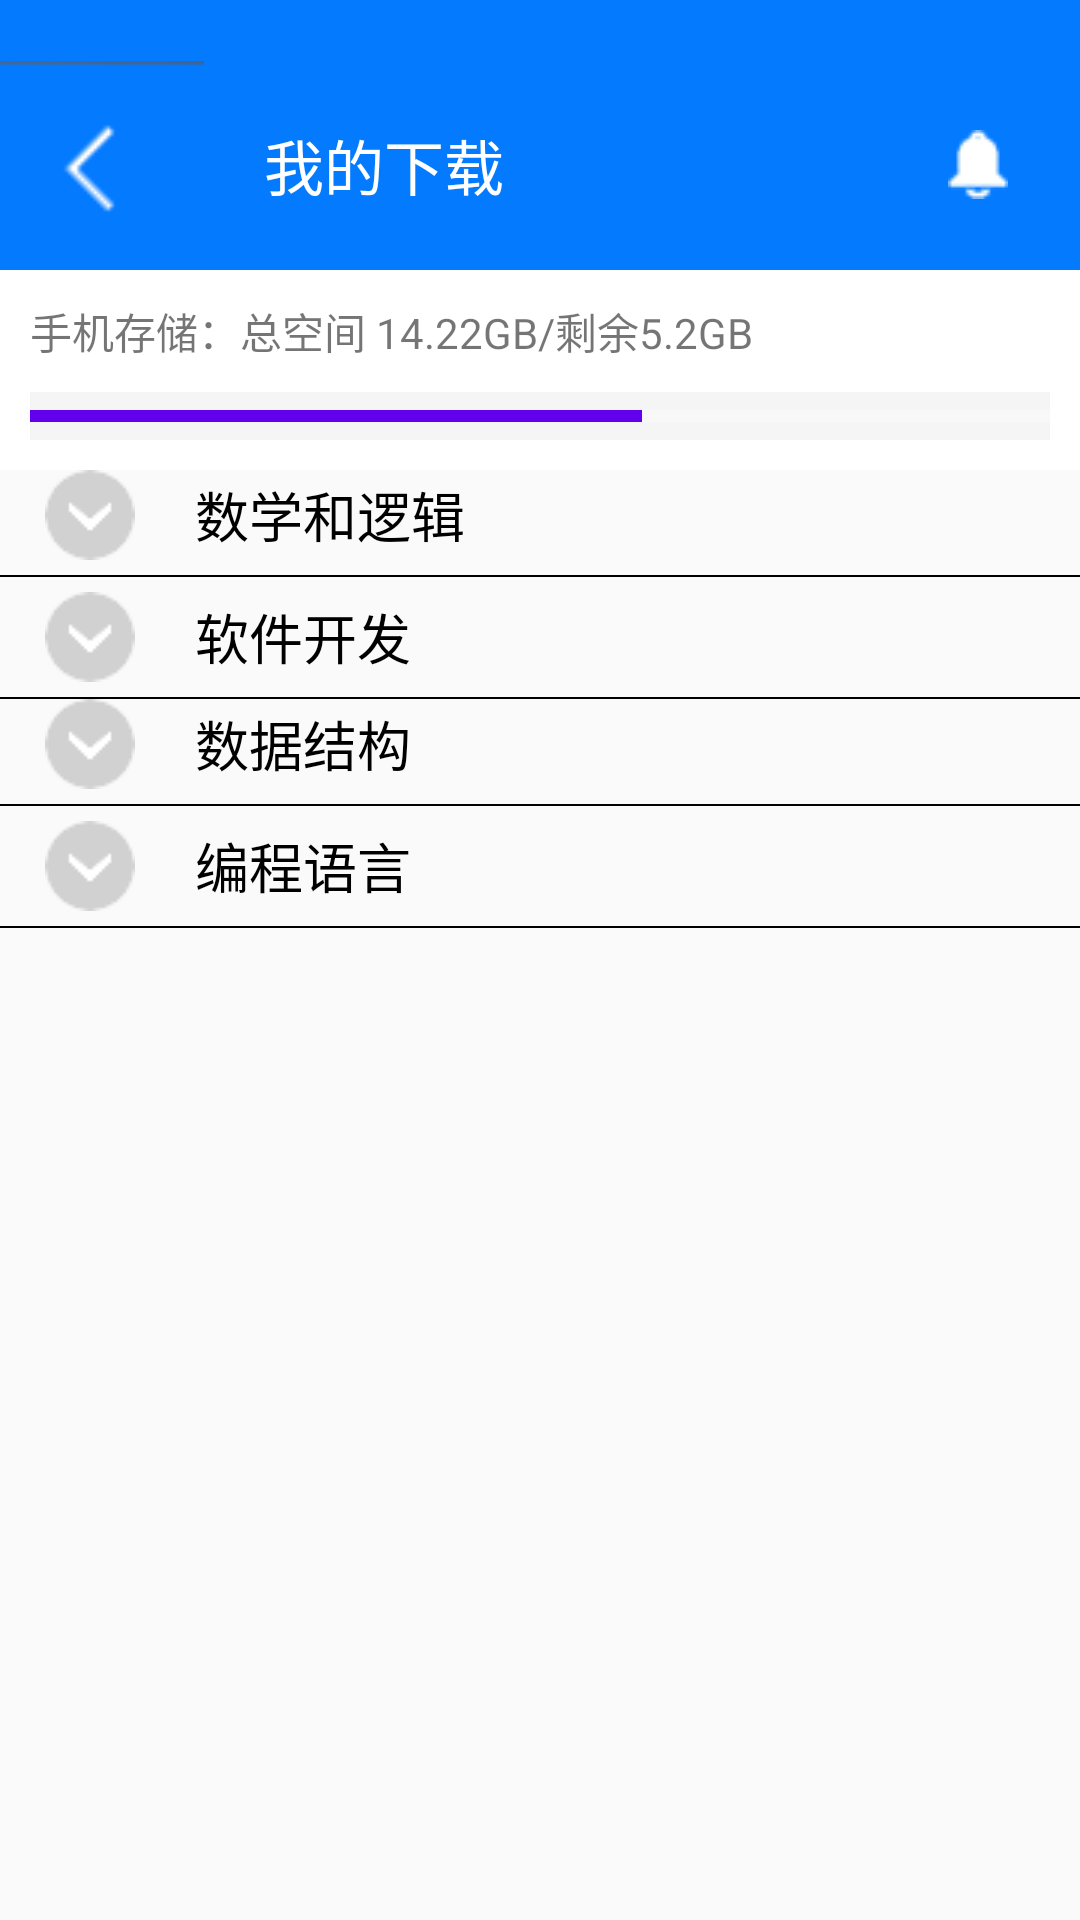

Icons on this 1080*1920 Android screen, each with the point to tap as (x=x, y=y):
exp status wait down: (x=90, y=515), (x=90, y=637), (x=90, y=744), (x=90, y=866)
xiaoxis: (x=978, y=164)
